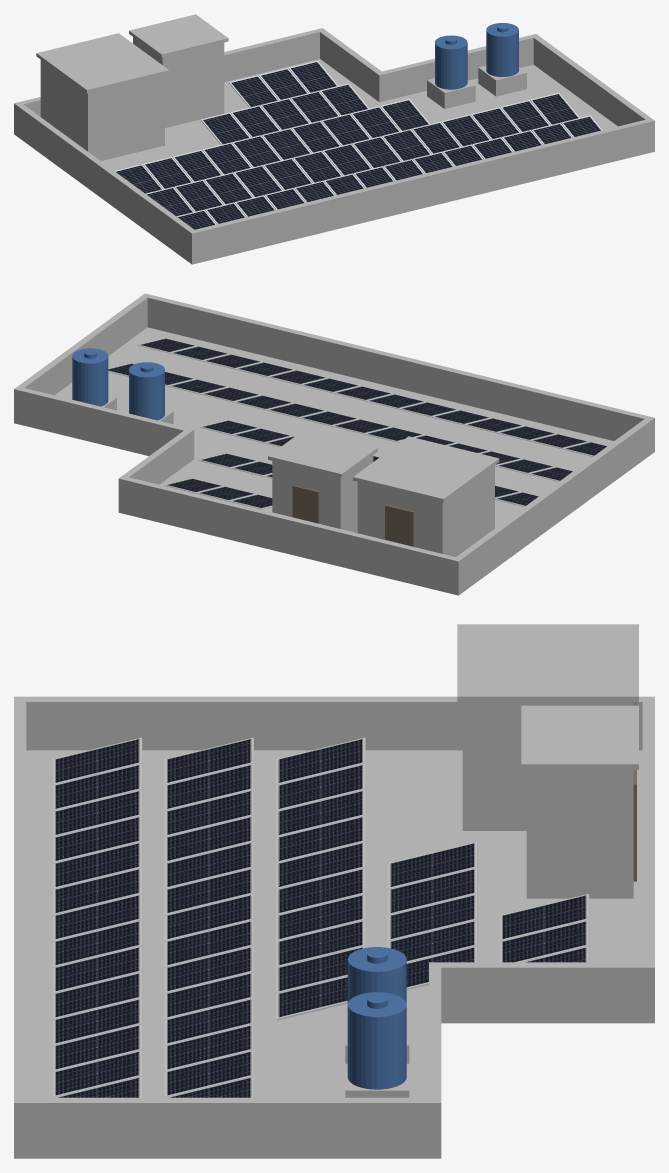
File: rooftop_solar.glb
3 views of the same model, one above another, from view 1: azimuth 30°, elevation 25°; view 2: azimuth 150°, elevation 25°; view 3: azimuth 270°, elevation 25° (orthographic). The views are drawn at different scales.
Visible parts, largest first — view 1: RoofSolar; view 2: RoofSolar; view 3: RoofSolar.
Part boxes in pixels (<box>): RoofSolar: <box>14,14,654,264</box>; RoofSolar: <box>14,293,654,595</box>; RoofSolar: <box>14,624,654,1158</box>.
Bounding box in the file's own units: 18 × 2.97 × 12.
Materials: 5 (1 with a texture image).
